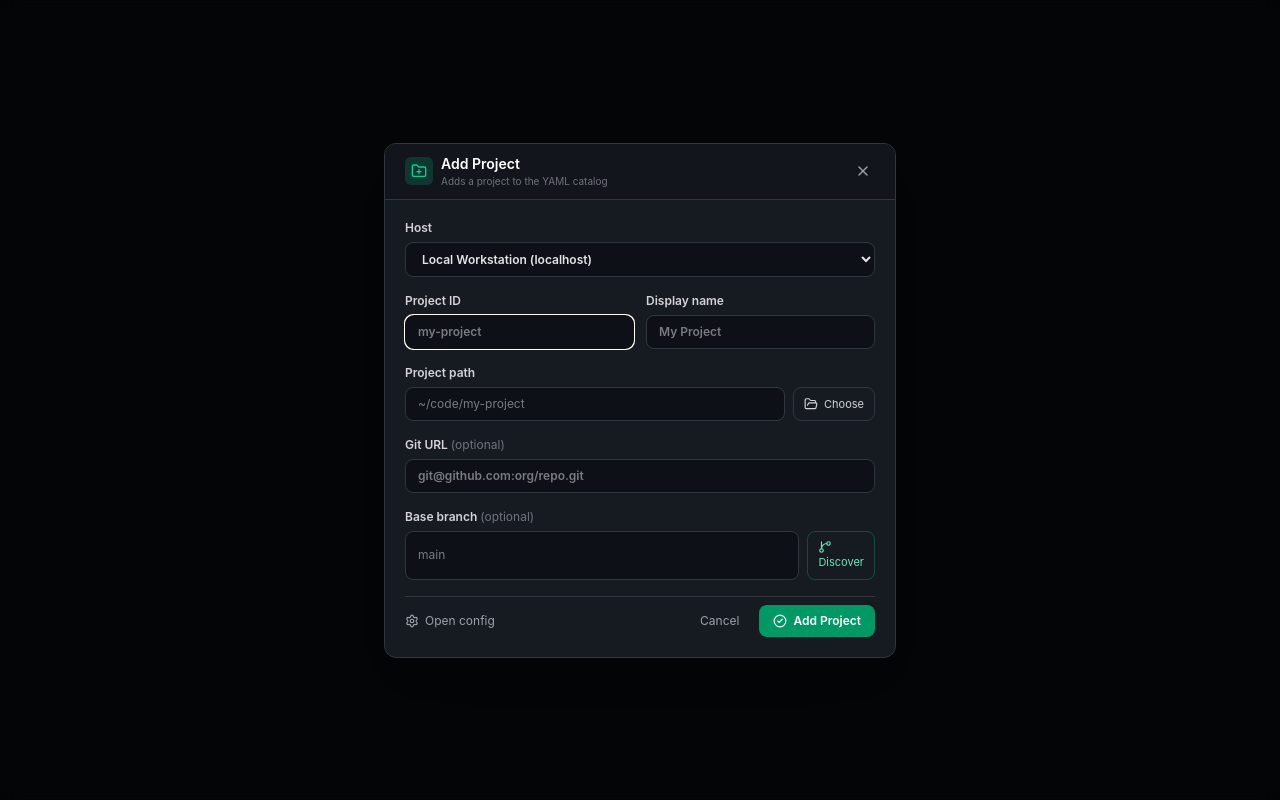
Test: NewProjectModal › shows catalog errors and does not close after a rejected save
Type "duplicate" into the field with test id "new-project-id" at [520, 332], box [405,314,634,348]
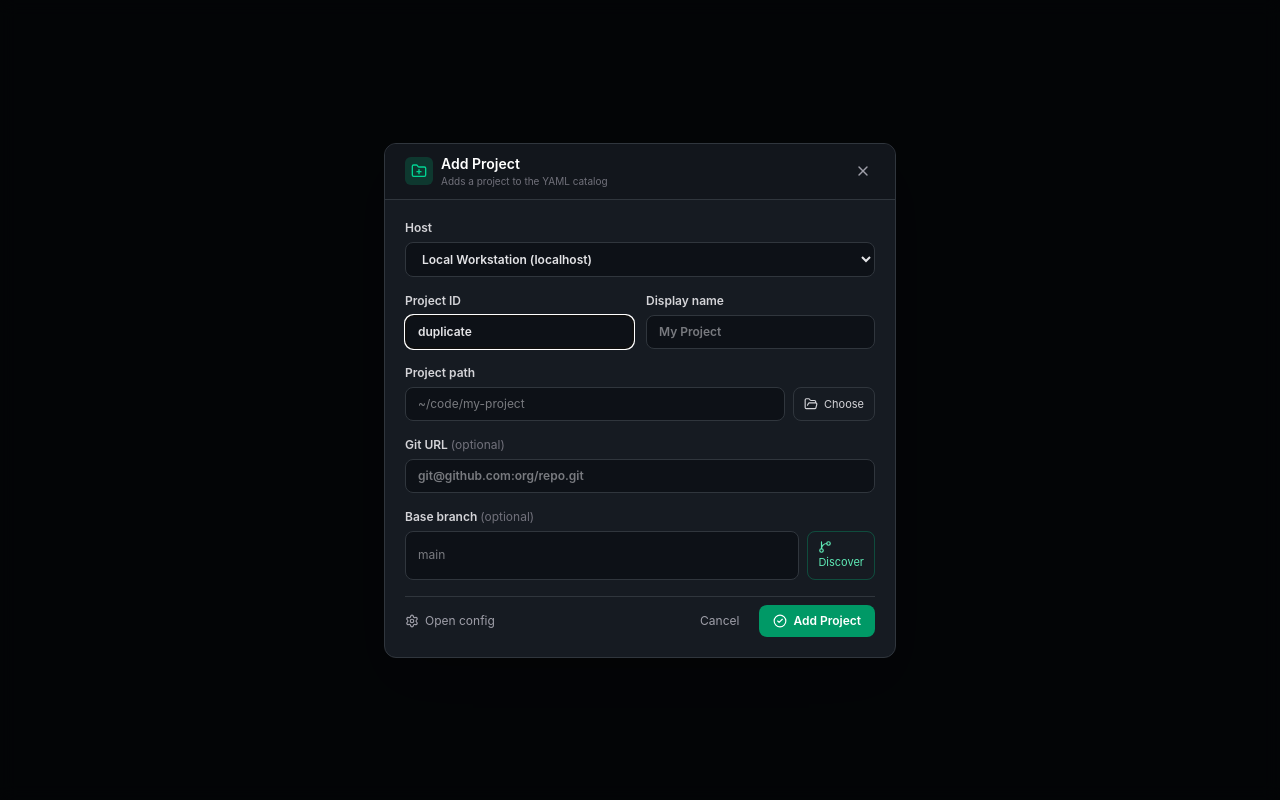
Type "Duplicate" into the field with test id "new-project-name" at [760, 332], box [646,314,875,348]
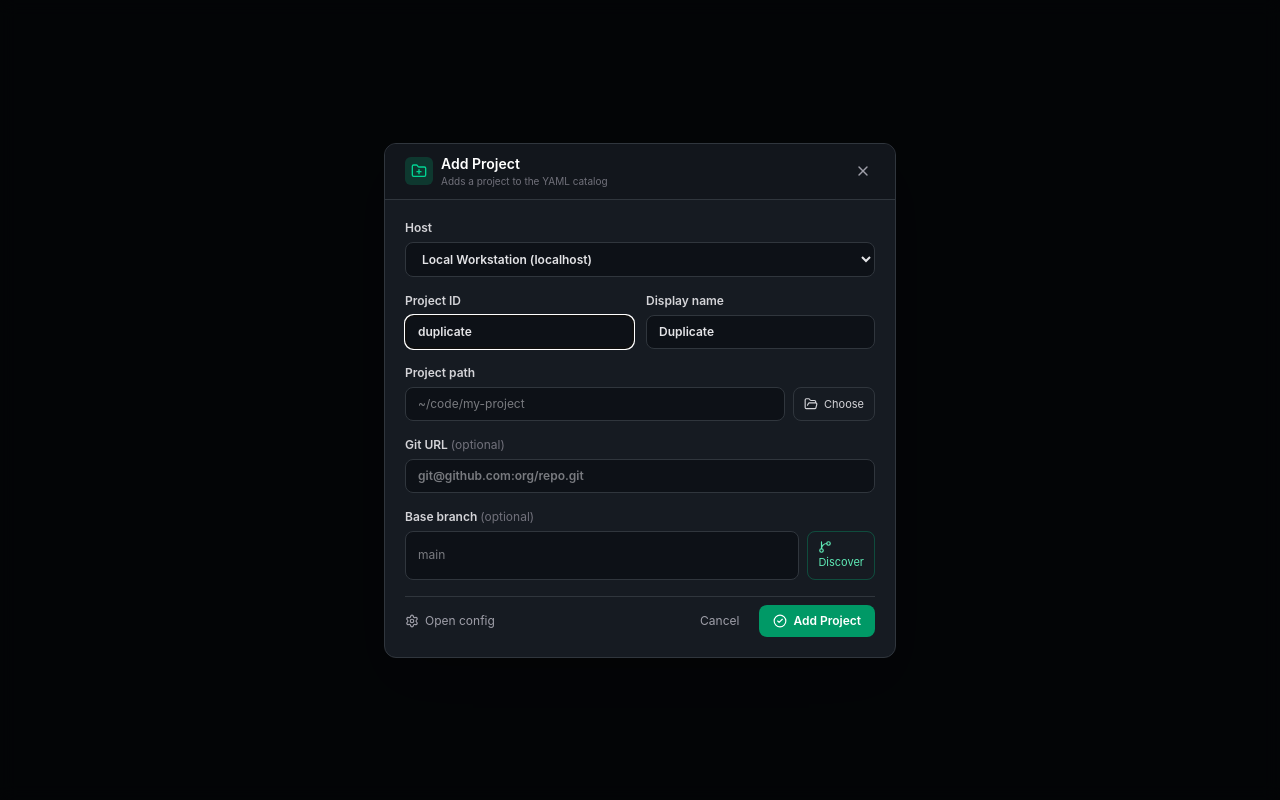
Type "~/code/duplicate" into the field with test id "new-project-path" at [595, 404], box [405,386,785,421]
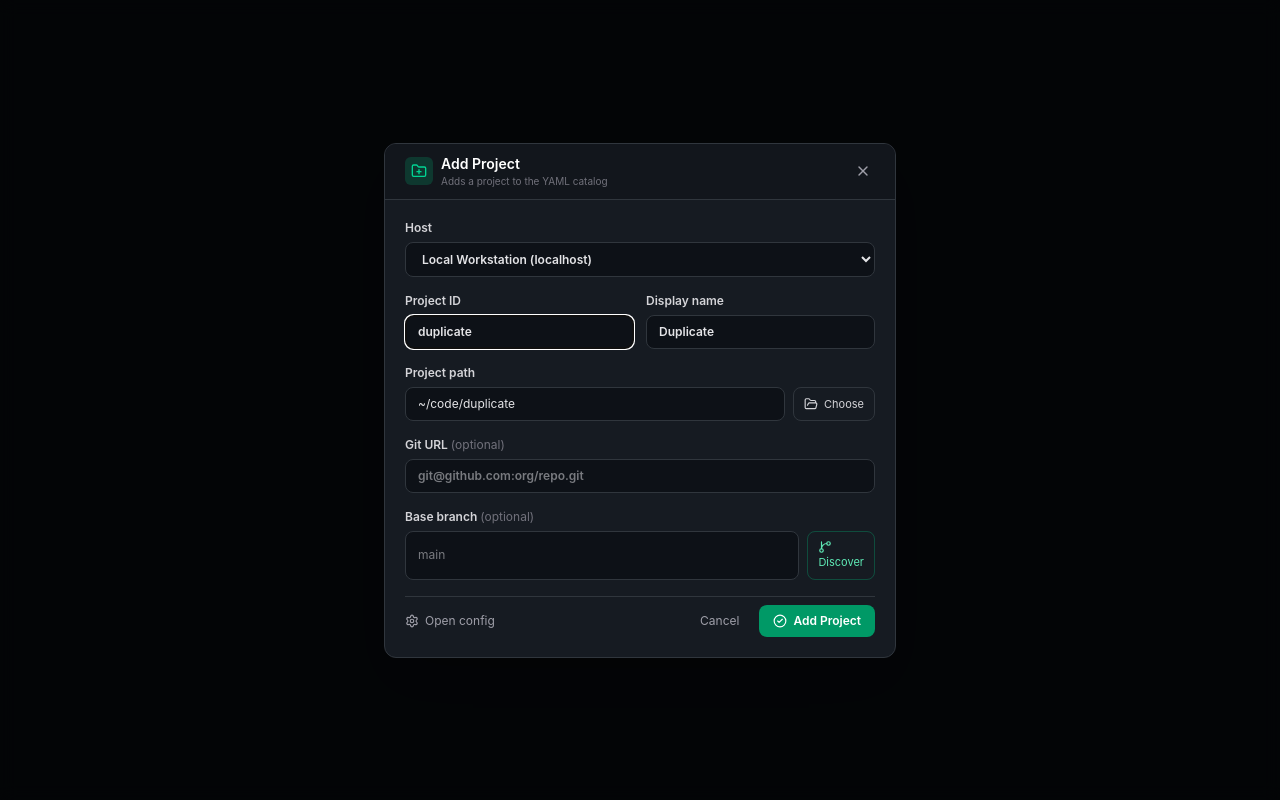
Click the button with test id "new-project-submit" at [817, 620], box [759,604,875,636]
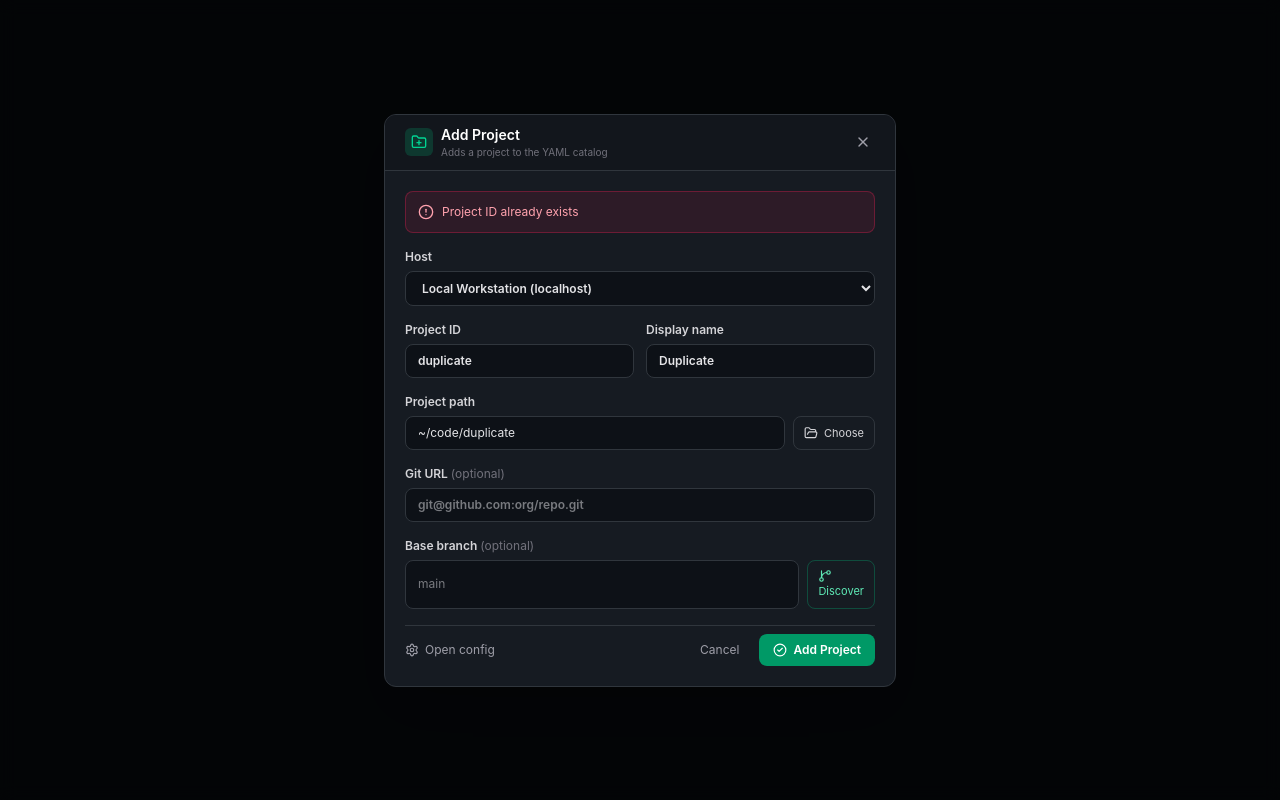
Expected: the element with test id "new-project-error" shows "already exists", [442,204,578,218]
